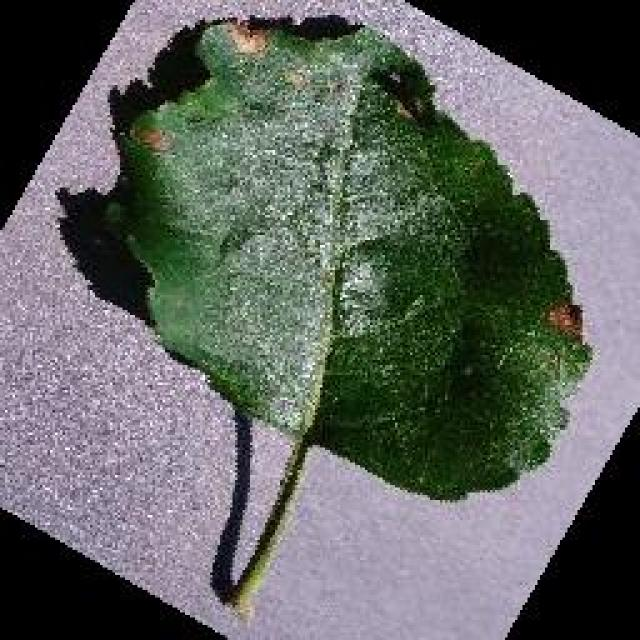Black_rot: (95, 12, 593, 620)
